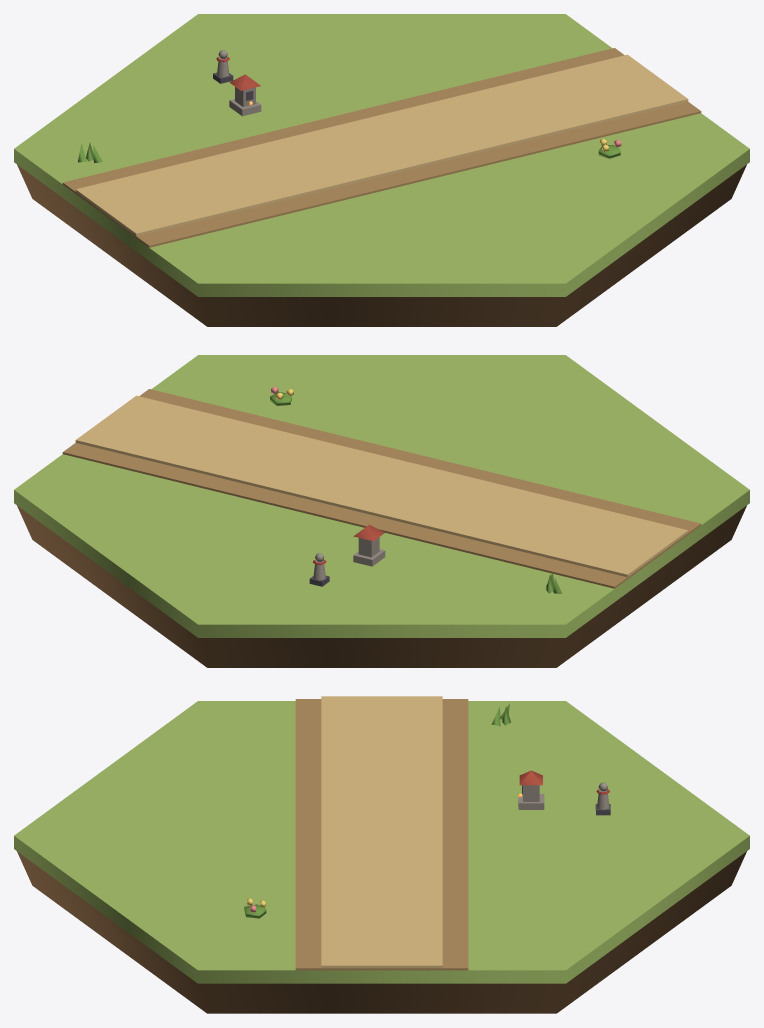
File: tile_rescue.glb
3 views of the same model, one above another, from view 1: azimuth 30°, elevation 25°; view 2: azimuth 150°, elevation 25°; view 3: azimuth 270°, elevation 25° (orthographic).
Visible parts, largest first — view 1: ground, road, ground_soil, road_surface_hub, road_verge_hub; view 2: ground, road, ground_soil, road_surface_hub, road_verge_hub; view 3: ground, road, ground_soil, road_surface_hub.
Part boxes in pixels (left/top/right/bottom): ground: left=14, top=14, right=749, bottom=296; road: left=62, top=48, right=701, bottom=247; ground_soil: left=17, top=164, right=746, bottom=326; road_surface_hub: left=323, top=118, right=441, bottom=168; road_verge_hub: left=304, top=113, right=465, bottom=182; ground: left=14, top=355, right=749, bottom=637; road: left=62, top=389, right=701, bottom=588; ground_soil: left=17, top=505, right=746, bottom=667; road_surface_hub: left=322, top=459, right=440, bottom=508; road_verge_hub: left=298, top=454, right=458, bottom=523; ground: left=14, top=701, right=749, bottom=983; road: left=295, top=696, right=468, bottom=970; ground_soil: left=17, top=851, right=746, bottom=1013; road_surface_hub: left=321, top=807, right=442, bottom=856.
Size of the model in its own units: 1.73 by 0.255 by 2.
